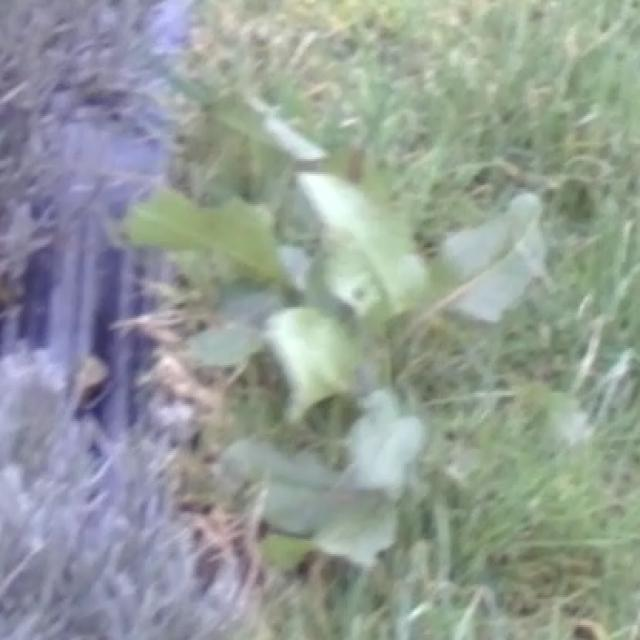organic waste: (103, 65, 602, 587)
